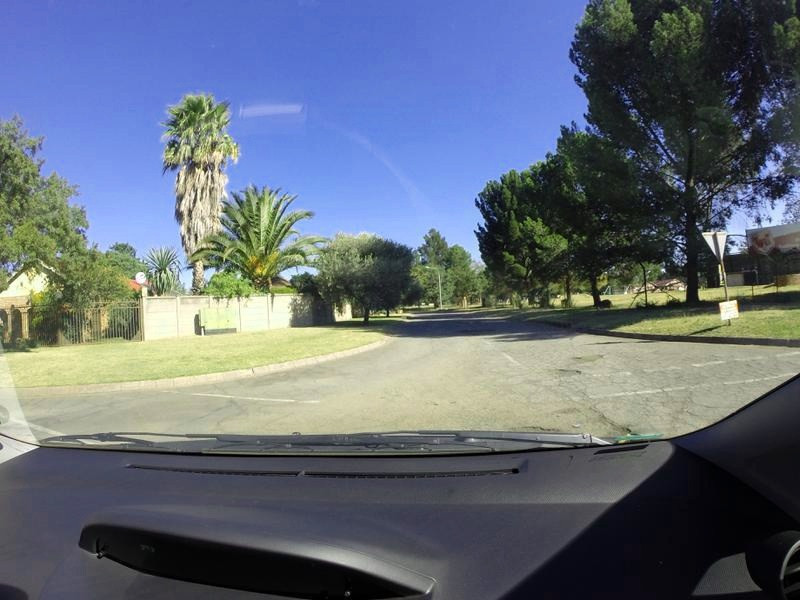pothole: (510, 418, 563, 430), (569, 353, 608, 363), (555, 367, 582, 379)
